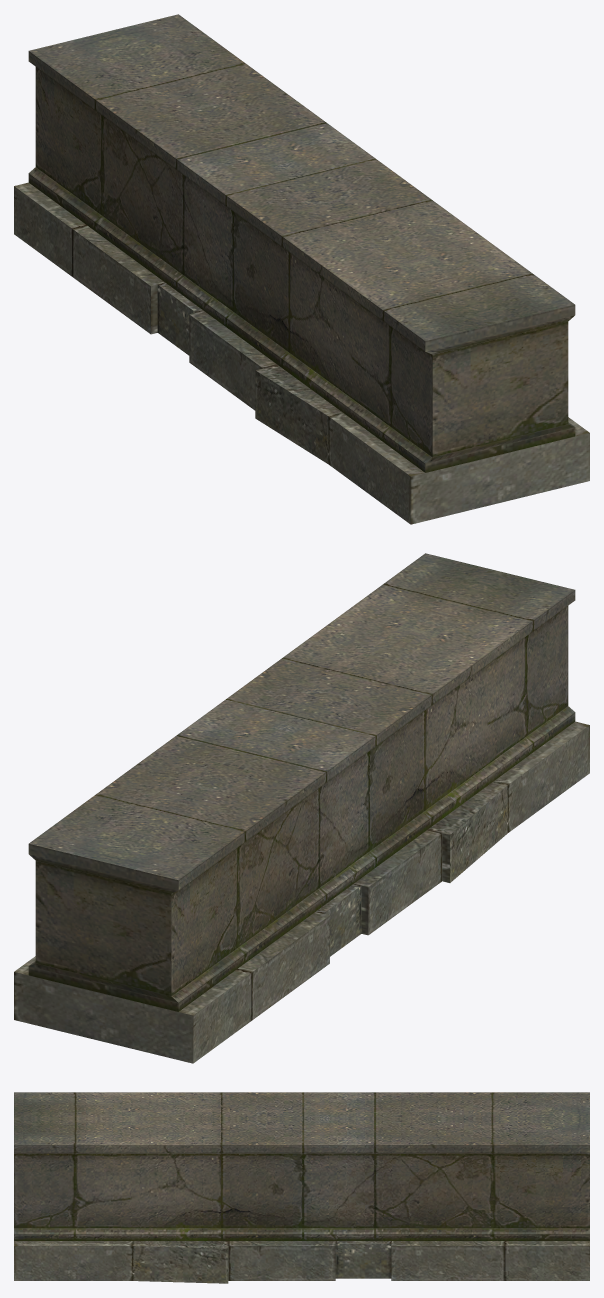
Rendered from bg_lut_lutomb_border03_sm_old.FBX.
3 views of the same model, one above another, from view 1: azimuth 30°, elevation 25°; view 2: azimuth 150°, elevation 25°; view 3: azimuth 270°, elevation 25° (orthographic). The views are drawn at different scales.
Parts seen in each view (by area): view 1: bg_lut_lutomb_border03_sm_old; view 2: bg_lut_lutomb_border03_sm_old; view 3: bg_lut_lutomb_border03_sm_old.
Boxes of the visible parts, x1,y1,x2,y2 form: bg_lut_lutomb_border03_sm_old: (14,14,589,524); bg_lut_lutomb_border03_sm_old: (14,553,589,1063); bg_lut_lutomb_border03_sm_old: (14,1092,589,1283).
Size of the model in its own units: 72.55 by 64 by 256.
